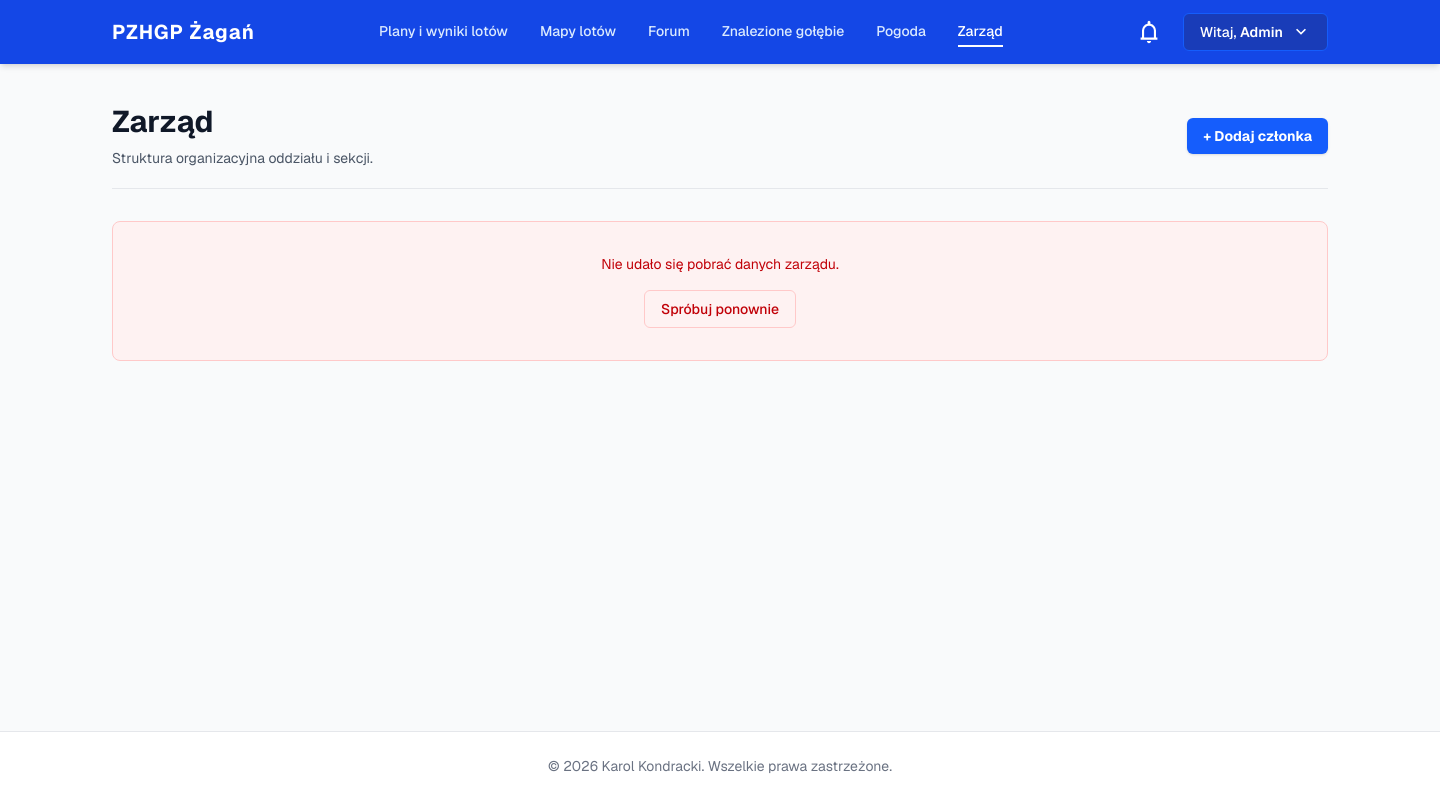
Test: Board Page Tests › Should display an error and successfully retry loading board data
The image size is (1440, 800).
Expected: the text "Nie udało się pobrać danych zarządu." is shown, [601,255,839,273]
Step 1. Click the button "Spróbuj ponownie" → (720, 309), box [644,290,796,328]
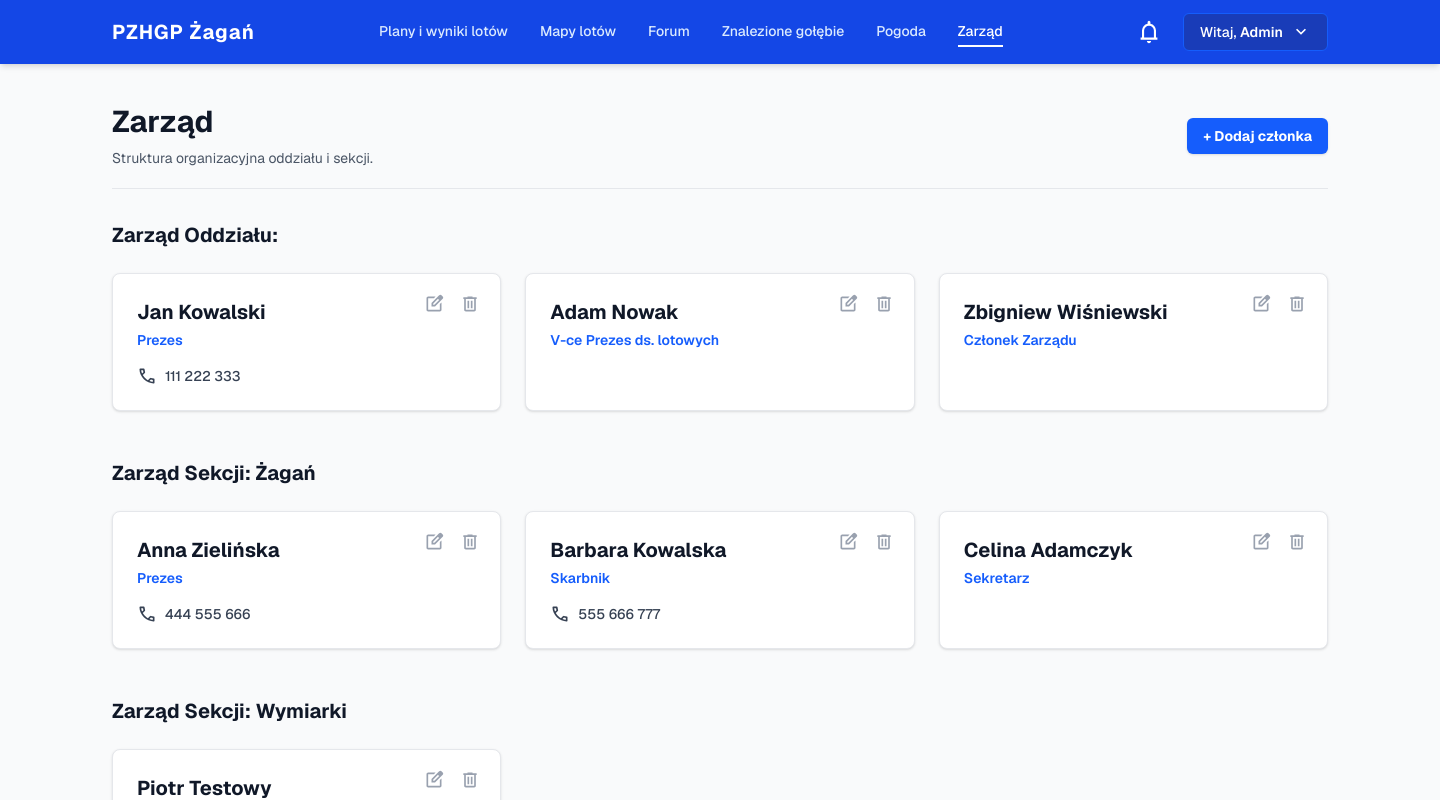
Expected: the text "Nie udało się pobrać danych zarządu." is gone
Expected: the heading "Zarząd Oddziału:" is shown, [112,222,278,248]
Expected: the element showing "Jan Kowalski Prezes 111 222 333" is shown, [112,273,501,411]
